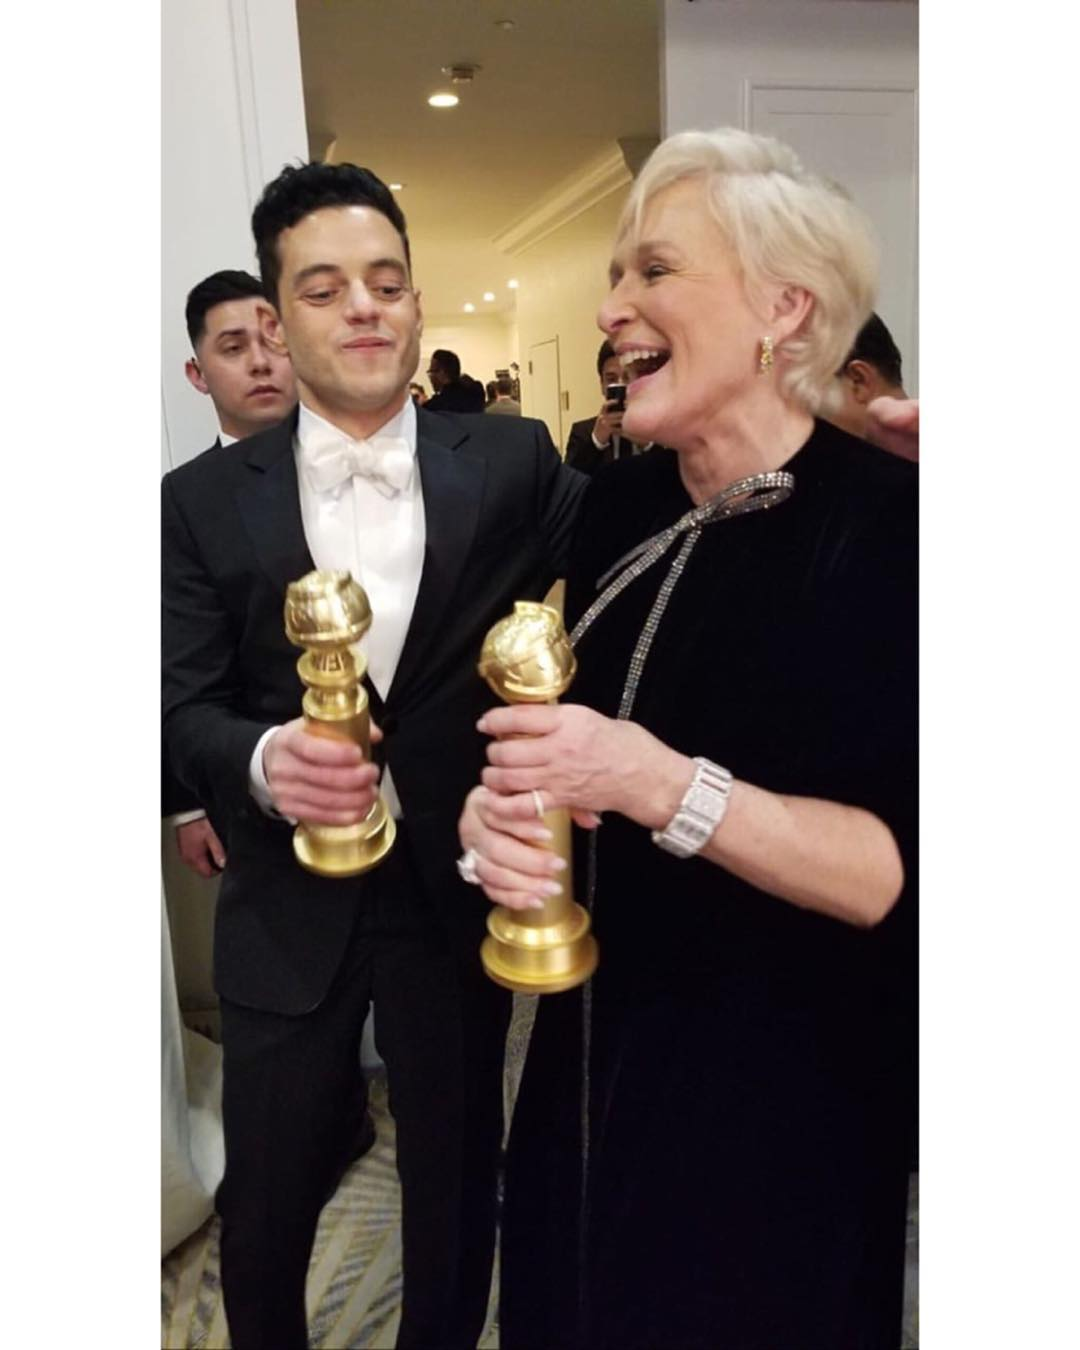hand: (253, 715, 384, 810)
